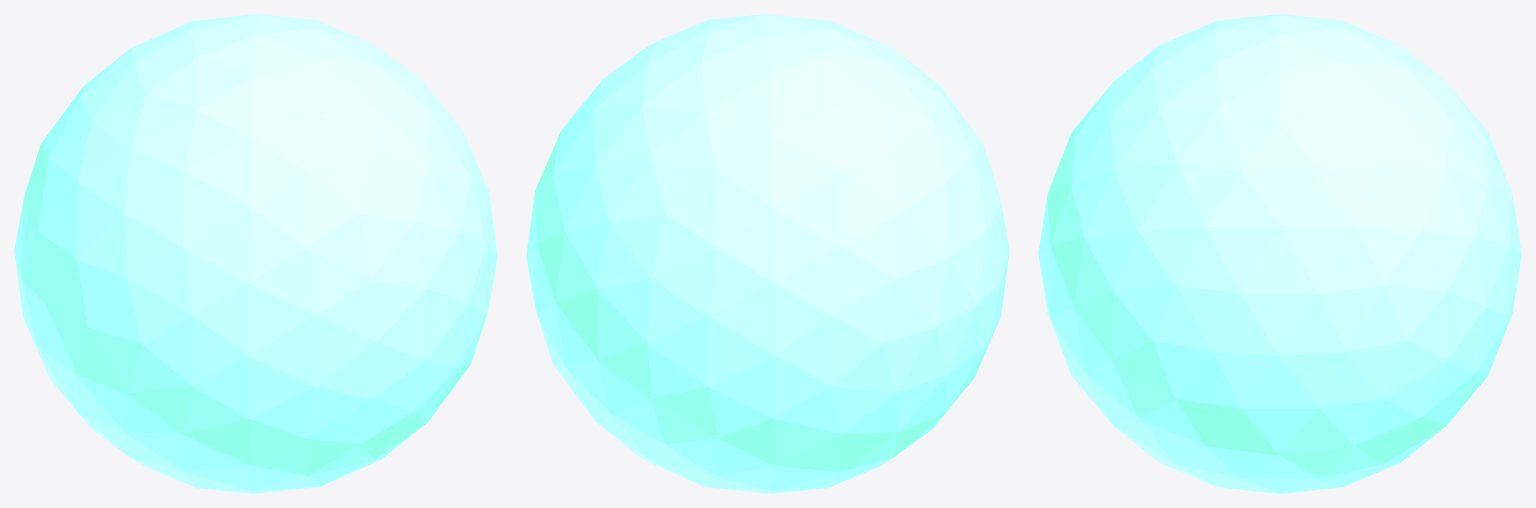
File: hexad-authenticity.glb
The picture shows the model from 3 angles, left to right: view 1: azimuth 30°, elevation 25°; view 2: azimuth 150°, elevation 25°; view 3: azimuth 270°, elevation 25°; orthographic projection.
Parts seen in each view (by area): view 1: Outer_Shell; view 2: Outer_Shell; view 3: Outer_Shell.
Part boxes in pixels (left/top/right/bottom): Outer_Shell: left=14, top=14, right=497, bottom=493; Outer_Shell: left=526, top=14, right=1009, bottom=493; Outer_Shell: left=1038, top=14, right=1521, bottom=493.
Bounding box in the file's own units: 2.28 × 2.28 × 2.28.
